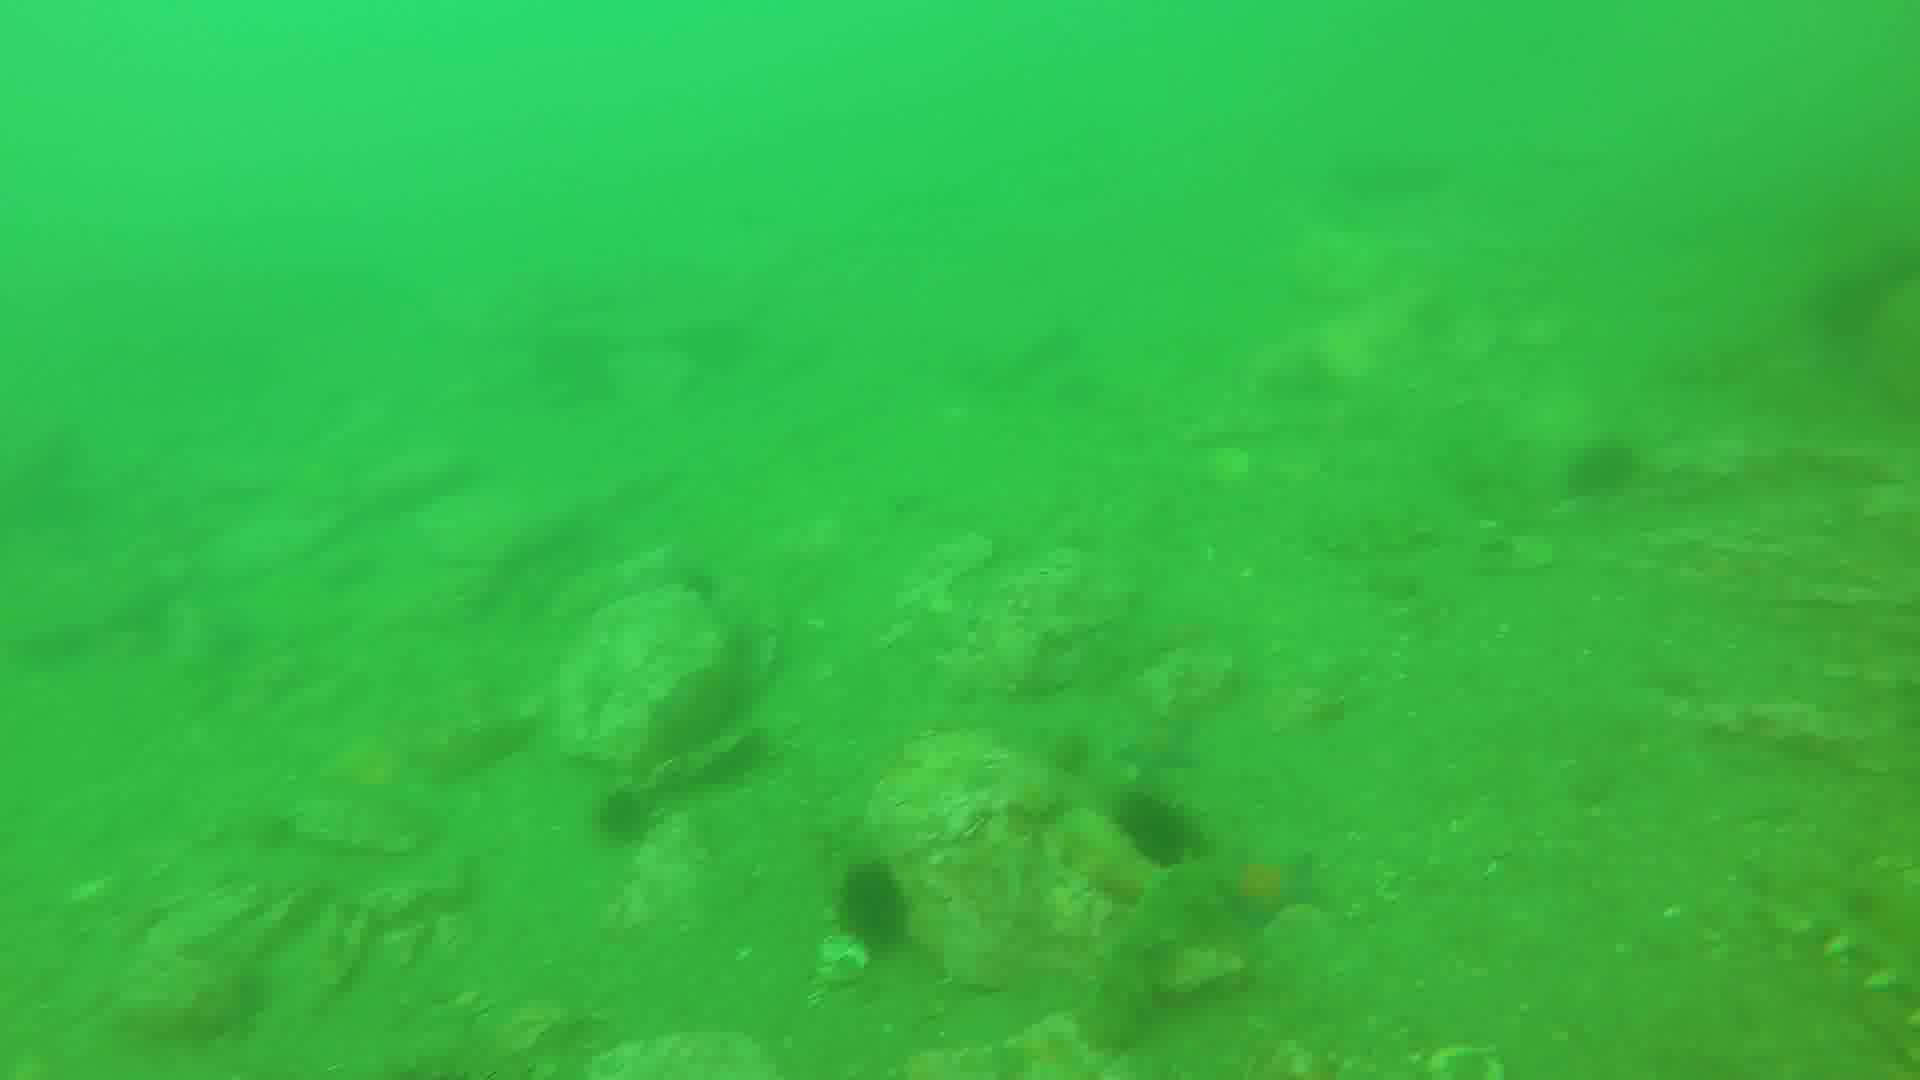echinus: (848, 862, 927, 957), (1126, 785, 1195, 873), (593, 785, 655, 843), (1575, 435, 1639, 489)
holothurian: (1788, 828, 1920, 1052), (1084, 880, 1218, 1052), (1311, 501, 1447, 560)
starfish: (1218, 844, 1331, 919)
